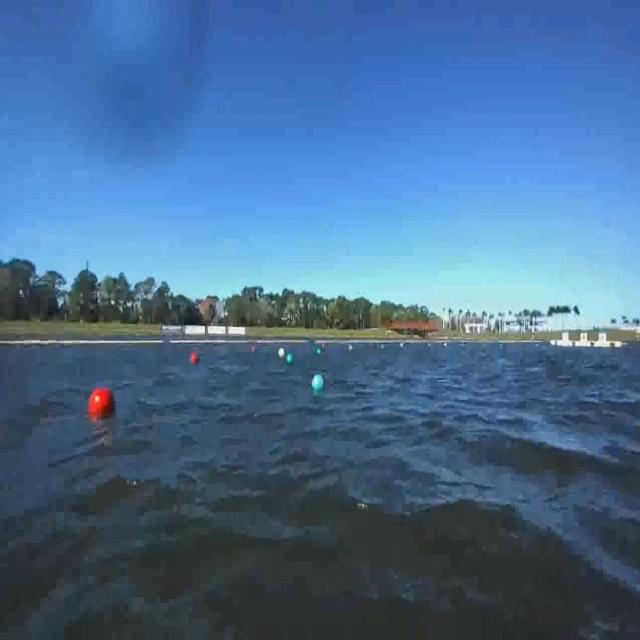green-buoy: (312, 372, 325, 394), (286, 353, 293, 366)
red-buoy: (90, 388, 117, 422), (190, 351, 197, 365)
